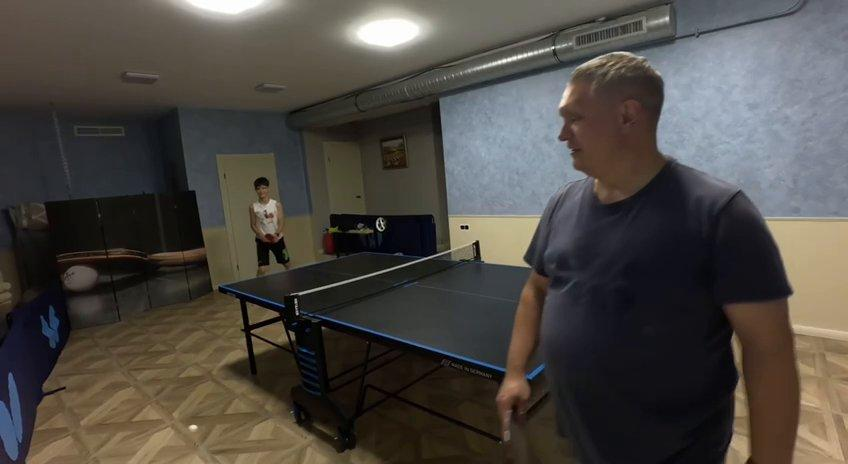Ball: (184, 423, 200, 432)
Net: (285, 240, 482, 319)
Player1: (249, 177, 289, 272)
Player2: (496, 52, 799, 463)
Table: (222, 254, 548, 378)
